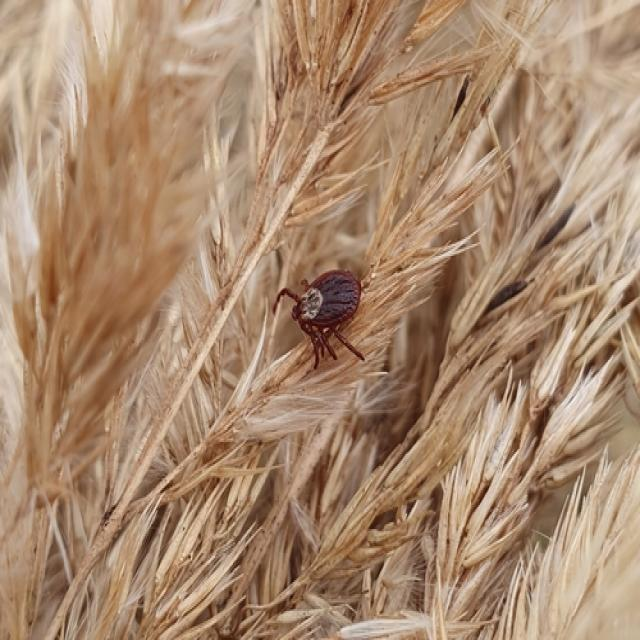Dermacentor Reticulatus-F: (274, 270, 364, 370)
